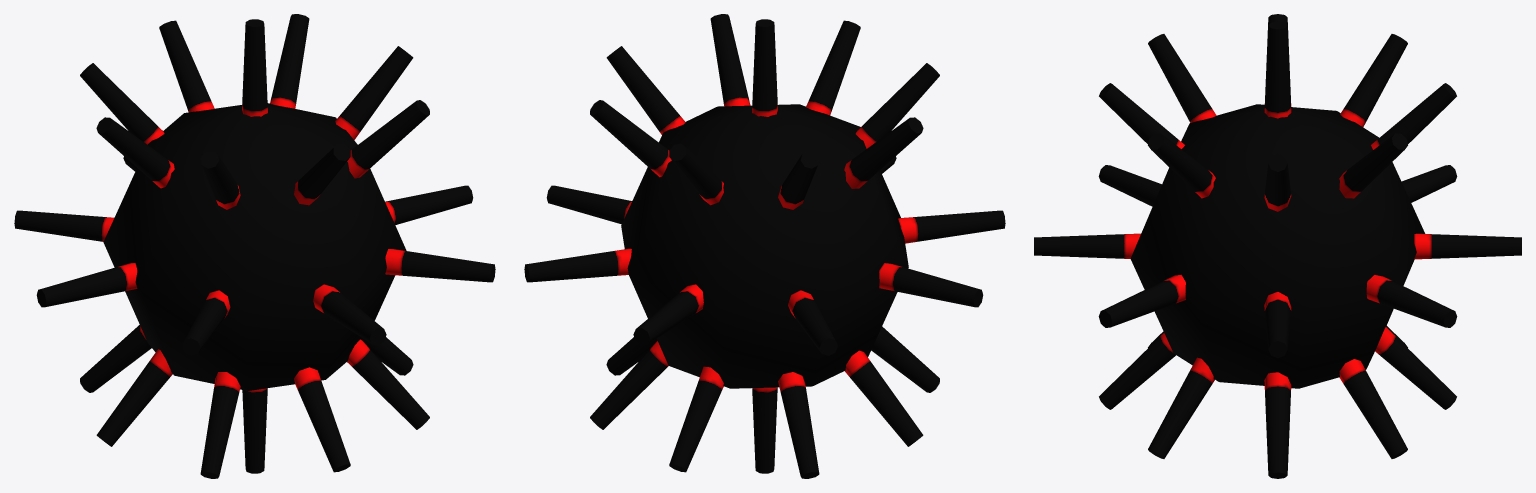
The model's file is Bomb.fbx.
3 views of the same model, side by side, from view 1: azimuth 30°, elevation 25°; view 2: azimuth 150°, elevation 25°; view 3: azimuth 270°, elevation 25° (orthographic).
Parts seen in each view (by area): view 1: Mine, Cylinder.003; view 2: Mine, Cylinder.003; view 3: Mine, Cylinder.003.
Boxes of the visible parts, left/top/right/bottom form: Mine: left=103, top=103, right=406, bottom=390; Cylinder.003: left=14, top=14, right=495, bottom=478; Mine: left=621, top=104, right=908, bottom=388; Cylinder.003: left=524, top=14, right=1005, bottom=478; Mine: left=1130, top=104, right=1425, bottom=388; Cylinder.003: left=1034, top=14, right=1521, bottom=478.
Bounding box in the file's own units: 23.98 × 23.98 × 23.98.
1 material, 1 textured.
